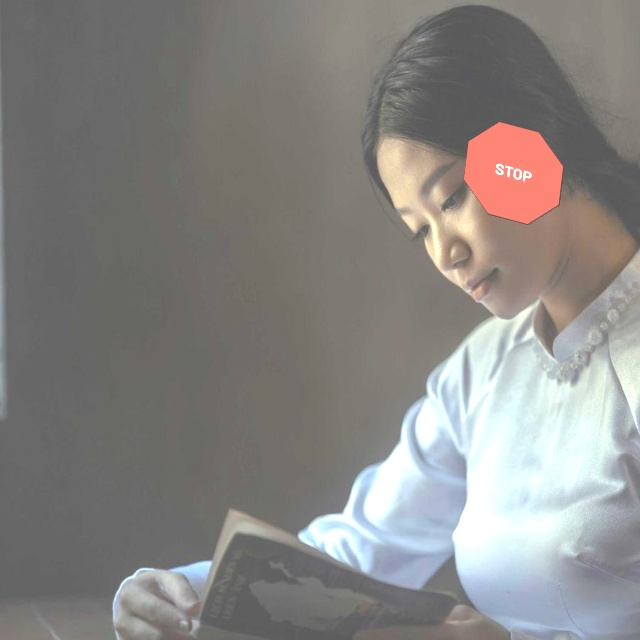STOP: (463, 121, 564, 225)
